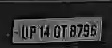1: (37, 25, 45, 40)
4: (43, 24, 52, 39)
6: (91, 24, 99, 39)
7: (77, 21, 84, 38)
8: (68, 24, 76, 39)
9: (82, 22, 91, 40)
O: (52, 23, 61, 39)
P: (29, 25, 38, 41)
T: (60, 23, 69, 40)
U: (20, 24, 29, 41)
